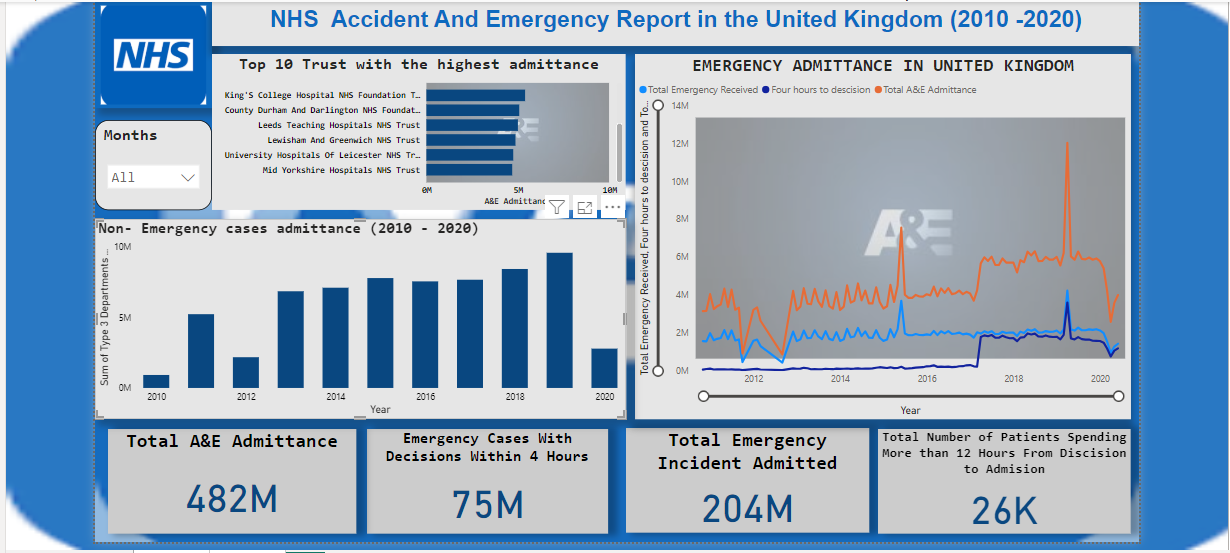

The dashboard page shown, as its layout file describes it:
{"tool":"powerbi","page":{"name":"Page 1","canvas":[1447,748],"ordinal":0},"visuals":[{"type":"card","title":"Total Emergency Incident Admitted","fields":{"Values":["NHS_Attendance.Total attendances"]},"box":[735.5,590.1,336.6,145.4],"z":0},{"type":"image","box":[0,0,162.1,146.8],"z":1000},{"type":"textbox","box":[162.1,0,1285.5,60.9],"z":2000},{"type":"lineChart","title":"EMERGENCY ADMITTANCE IN UNITED KINGDOM","fields":{"Category":["NHS_Attendance.date.Variation.Date Hierarchy.Year","NHS_Attendance.date.Variation.Date Hierarchy.Quarter","NHS_Attendance.date.Variation.Date Hierarchy.Month"],"Y":["NHS_Attendance.Total Emergeny Received","NHS_Attendance.Four hours to descision","NHS_Attendance.Total A&E Admittance"]},"box":[748,72,687.1,505.6],"z":3000},{"type":"card","title":"Total Number of Patients Spending More than 12 Hours From Discision to Admision","fields":{"Values":["NHS_Attendance.Number of patients spending >12 hours from decision to admit to admission"]},"box":[1084.6,591.5,350.5,145.4],"z":4000},{"type":"lineStackedColumnComboChart","title":"Non- Emergency cases admittance  (2010 - 2020)","fields":{"Category":["NHS_Attendance.date.Variation.Date Hierarchy.Year"],"Y":["NHS_Attendance.Type 3 Departments - Other A&E/Minor Injury Unit"]},"box":[0,300.6,735.5,277],"z":5002},{"type":"card","title":"Emergency Cases With Decisions Within 4 Hours ","fields":{"Values":["NHS_Attendance.Four hours to descision"]},"box":[376.8,591.5,333.8,145.4],"z":5003},{"type":"card","title":"Total A&E Admittance","fields":{"Values":["NHS_Attendance.Total A&E Admittance"]},"box":[18,591.5,343.5,145.4],"z":5004},{"type":"slicer","title":"Months","fields":{"Values":["NHS_Attendance.date"]},"box":[0,163.5,162.1,124.7],"z":5005},{"type":"clusteredBarChart","title":"Top 10 Trust with the highest admittance","fields":{"Y":["NHS_Attendance.Total A&E Admittance"],"Category":["NHS_Attendance.Name"]},"box":[162.1,72,573.5,216.1],"z":5007}]}

Visuals, with their boxes in screenshot pixels (x1, y1, x2, y2):
"Total Emergency Incident Admitted" card: region(621, 428, 867, 534)
image: region(83, 0, 202, 104)
textbox: region(202, 0, 1141, 41)
"EMERGENCY ADMITTANCE IN UNITED KINGDOM" lineChart: region(630, 49, 1132, 419)
"Total Number of Patients Spending More than 12 Hours From Discision to Admision" card: region(876, 429, 1132, 535)
"Non- Emergency cases admittance  (2010 - 2020)" lineStackedColumnComboChart: region(83, 216, 621, 419)
"Emergency Cases With Decisions Within 4 Hours " card: region(359, 429, 602, 535)
"Total A&E Admittance" card: region(96, 429, 347, 535)
"Months" slicer: region(83, 116, 202, 207)
"Top 10 Trust with the highest admittance" clusteredBarChart: region(202, 49, 621, 207)
